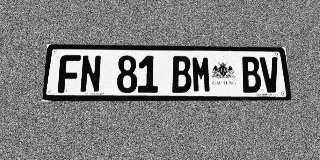1: (138, 55, 158, 93)
8: (117, 55, 137, 93)
B: (240, 56, 262, 93), (171, 56, 192, 93)
F: (58, 55, 81, 93)
M: (191, 56, 212, 93)
N: (79, 55, 102, 93)
V: (259, 57, 281, 93)
